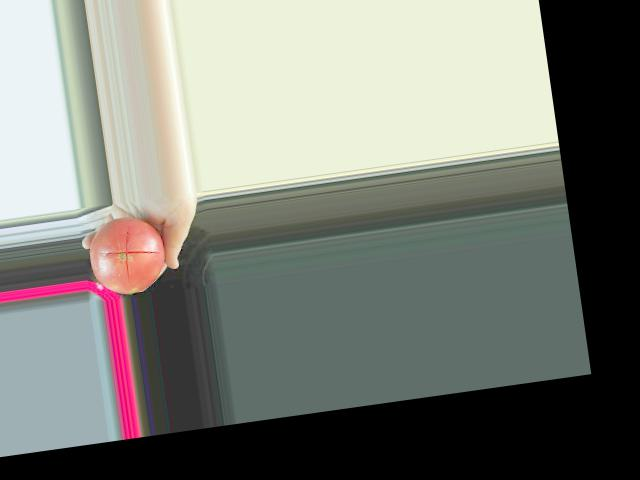tomato: (84, 211, 169, 298)
